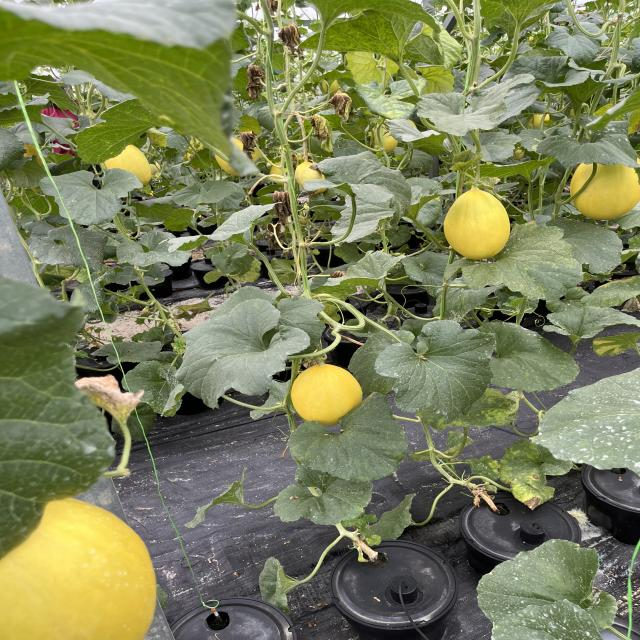CMV: (441, 222, 590, 306), (284, 394, 418, 480), (306, 13, 421, 61)
SLCV: (447, 148, 485, 172), (464, 173, 501, 189)
alternaria leaf blight: (496, 441, 577, 509), (466, 454, 506, 480)
bacterial wilt: (326, 90, 358, 123), (308, 116, 336, 152), (243, 64, 267, 98), (279, 24, 304, 50), (272, 189, 291, 221), (240, 130, 256, 156)
downy mildew: (70, 101, 171, 166), (39, 168, 142, 230), (357, 78, 424, 120)
powdery mildew: (172, 300, 304, 408), (372, 320, 497, 420), (536, 111, 640, 171), (533, 304, 640, 343), (28, 227, 112, 268), (322, 251, 401, 290)
